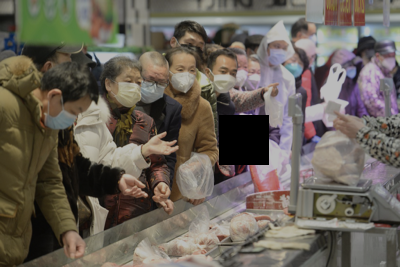with_mask: (40, 105, 84, 134), (113, 75, 142, 110), (139, 74, 168, 105), (168, 64, 196, 93), (212, 66, 237, 94), (266, 43, 288, 67), (284, 56, 306, 78), (234, 62, 248, 89), (248, 67, 262, 90), (382, 54, 397, 72), (345, 64, 358, 79)
